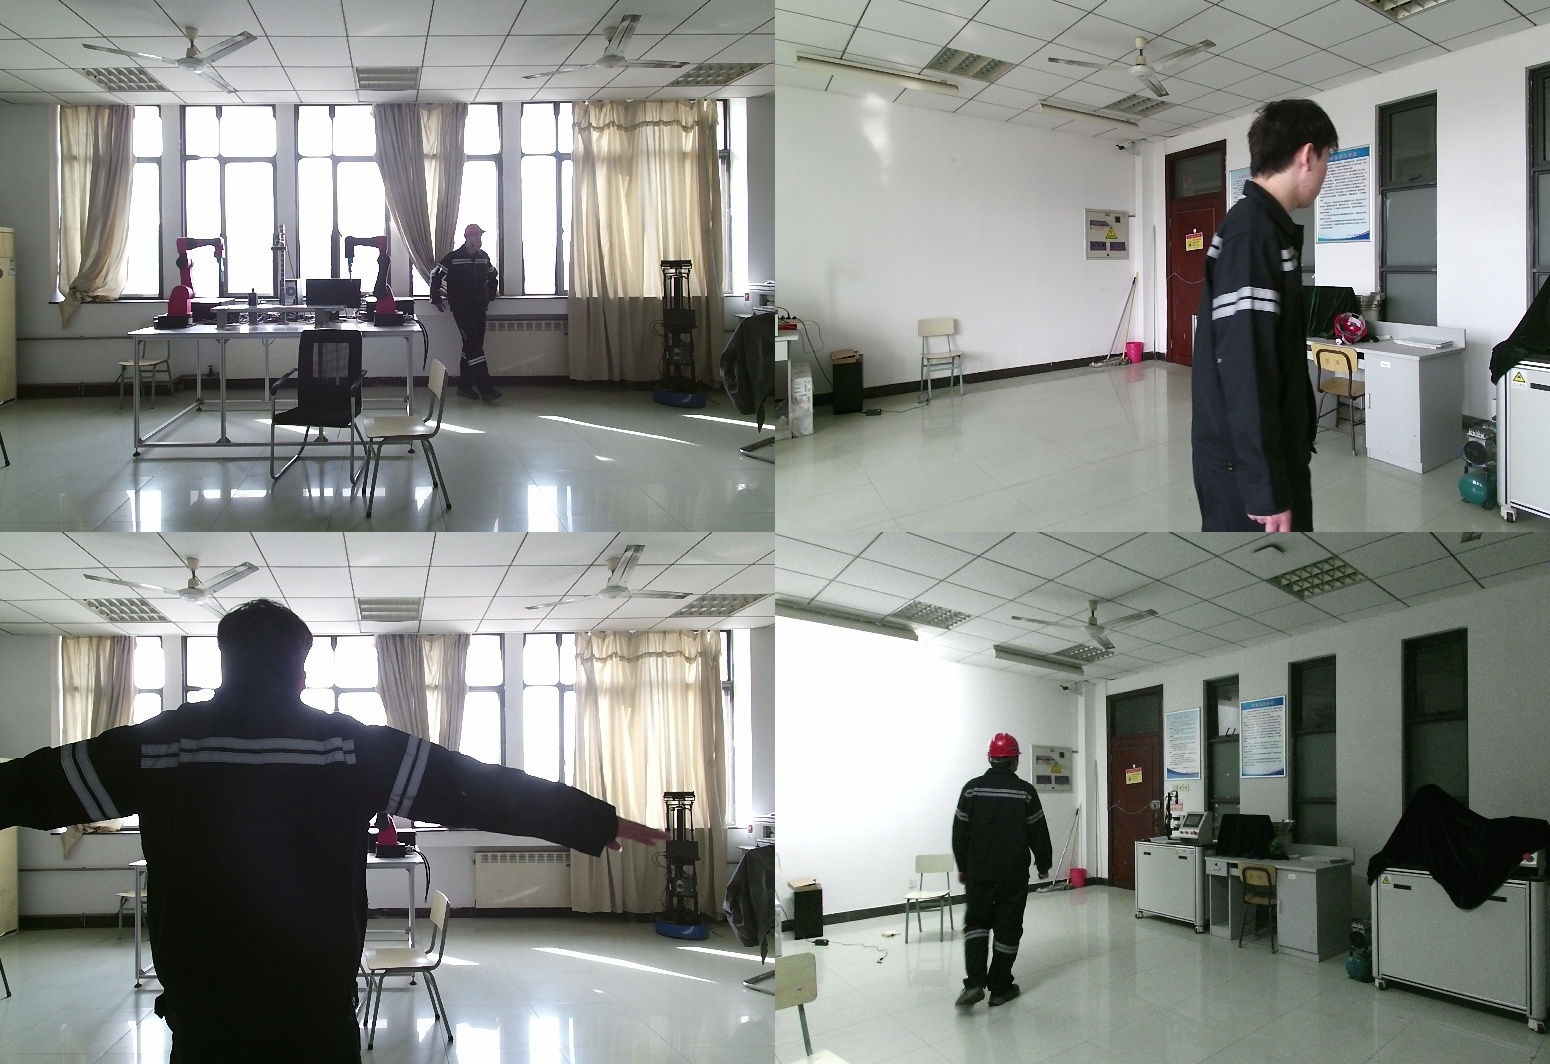person: (1, 601, 672, 1064), (1187, 100, 1335, 532), (943, 733, 1056, 1027), (433, 226, 516, 406)
